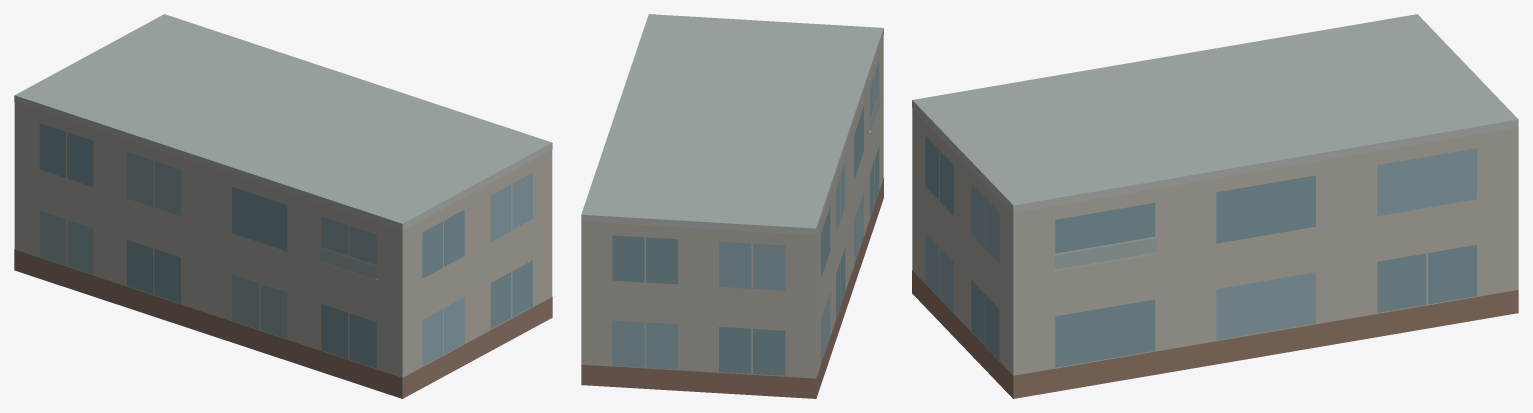
File: survey-upis-32928101.glb
3 renders of one model, left to right at view 1: azimuth 30°, elevation 25°; view 2: azimuth 150°, elevation 25°; view 3: azimuth 270°, elevation 25°, orthographic. The views are drawn at different scales.
Visible parts, largest first — view 1: survey-upis-32928101.tmp; view 2: survey-upis-32928101.tmp; view 3: survey-upis-32928101.tmp.
Part boxes in pixels (<box>): survey-upis-32928101.tmp: <box>14,14,552,398</box>; survey-upis-32928101.tmp: <box>581,14,883,398</box>; survey-upis-32928101.tmp: <box>912,14,1518,398</box>.
Size of the model in its own units: 12.96 by 6.1 by 17.34.
